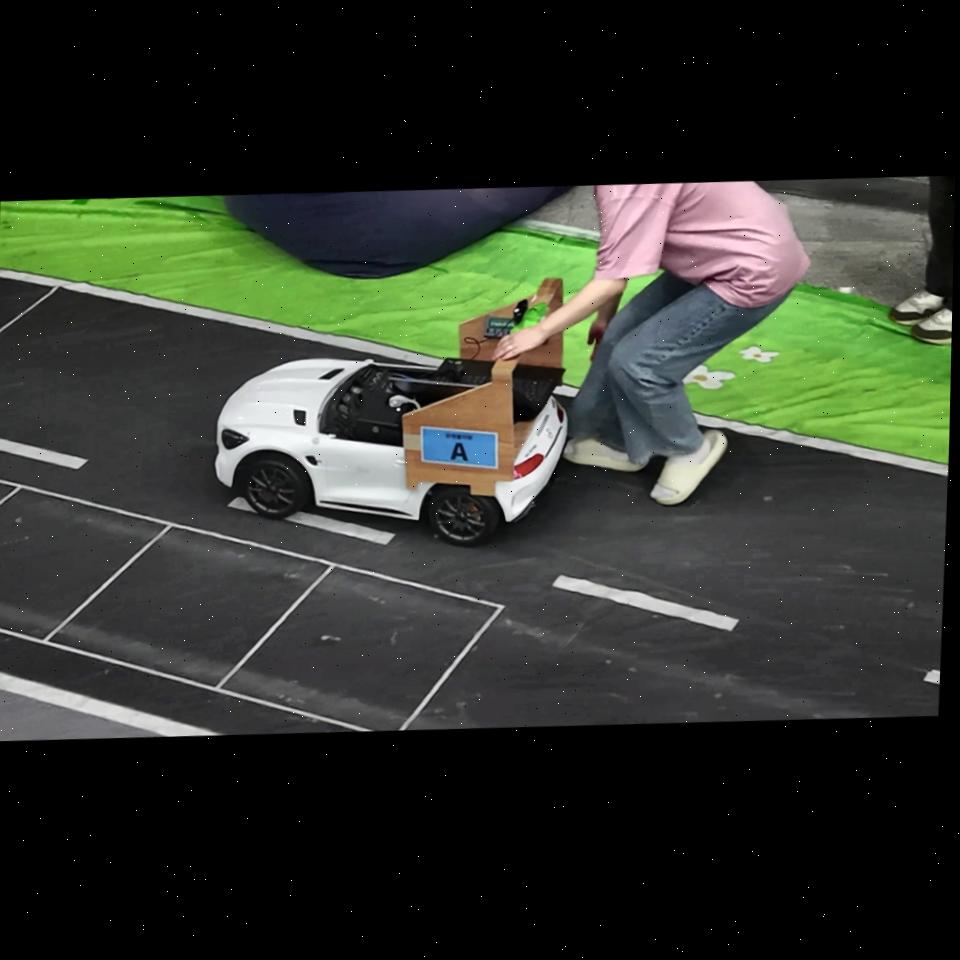broken_line: (553, 575, 739, 631), (285, 512, 397, 545), (0, 438, 88, 469), (226, 496, 257, 512), (924, 670, 940, 684)
